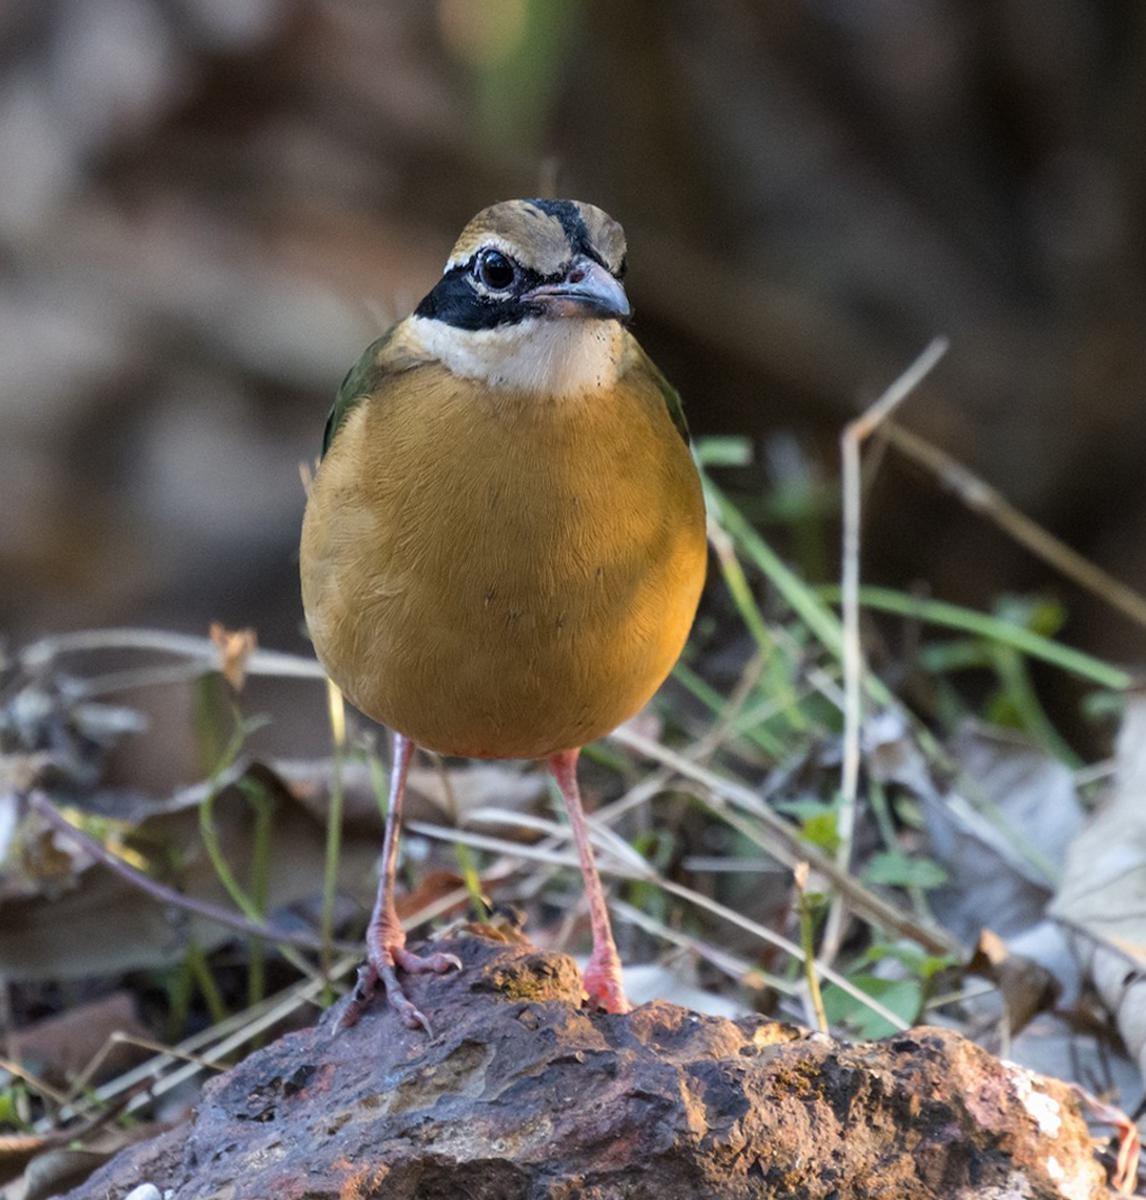pitta: (302, 156, 732, 988)
